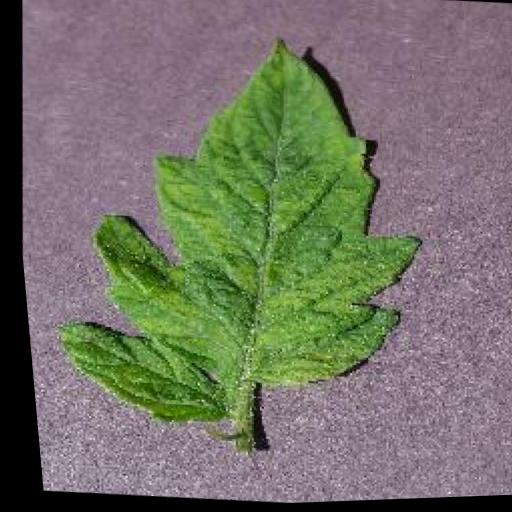Mosaic Virus: (27, 17, 449, 448)
